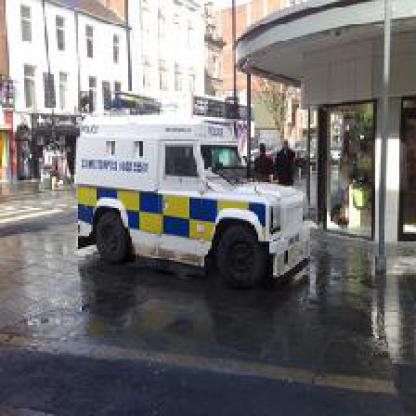emergency: (71, 110, 316, 306)
